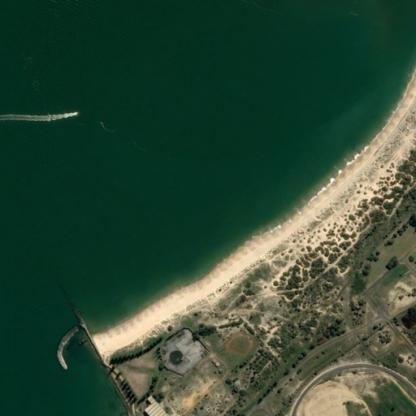ship: (60, 103, 82, 126)
